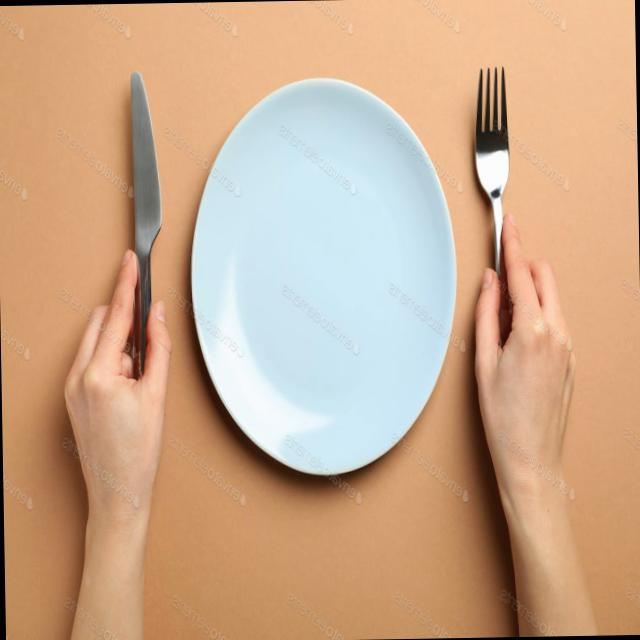fork: (472, 66, 514, 364)
